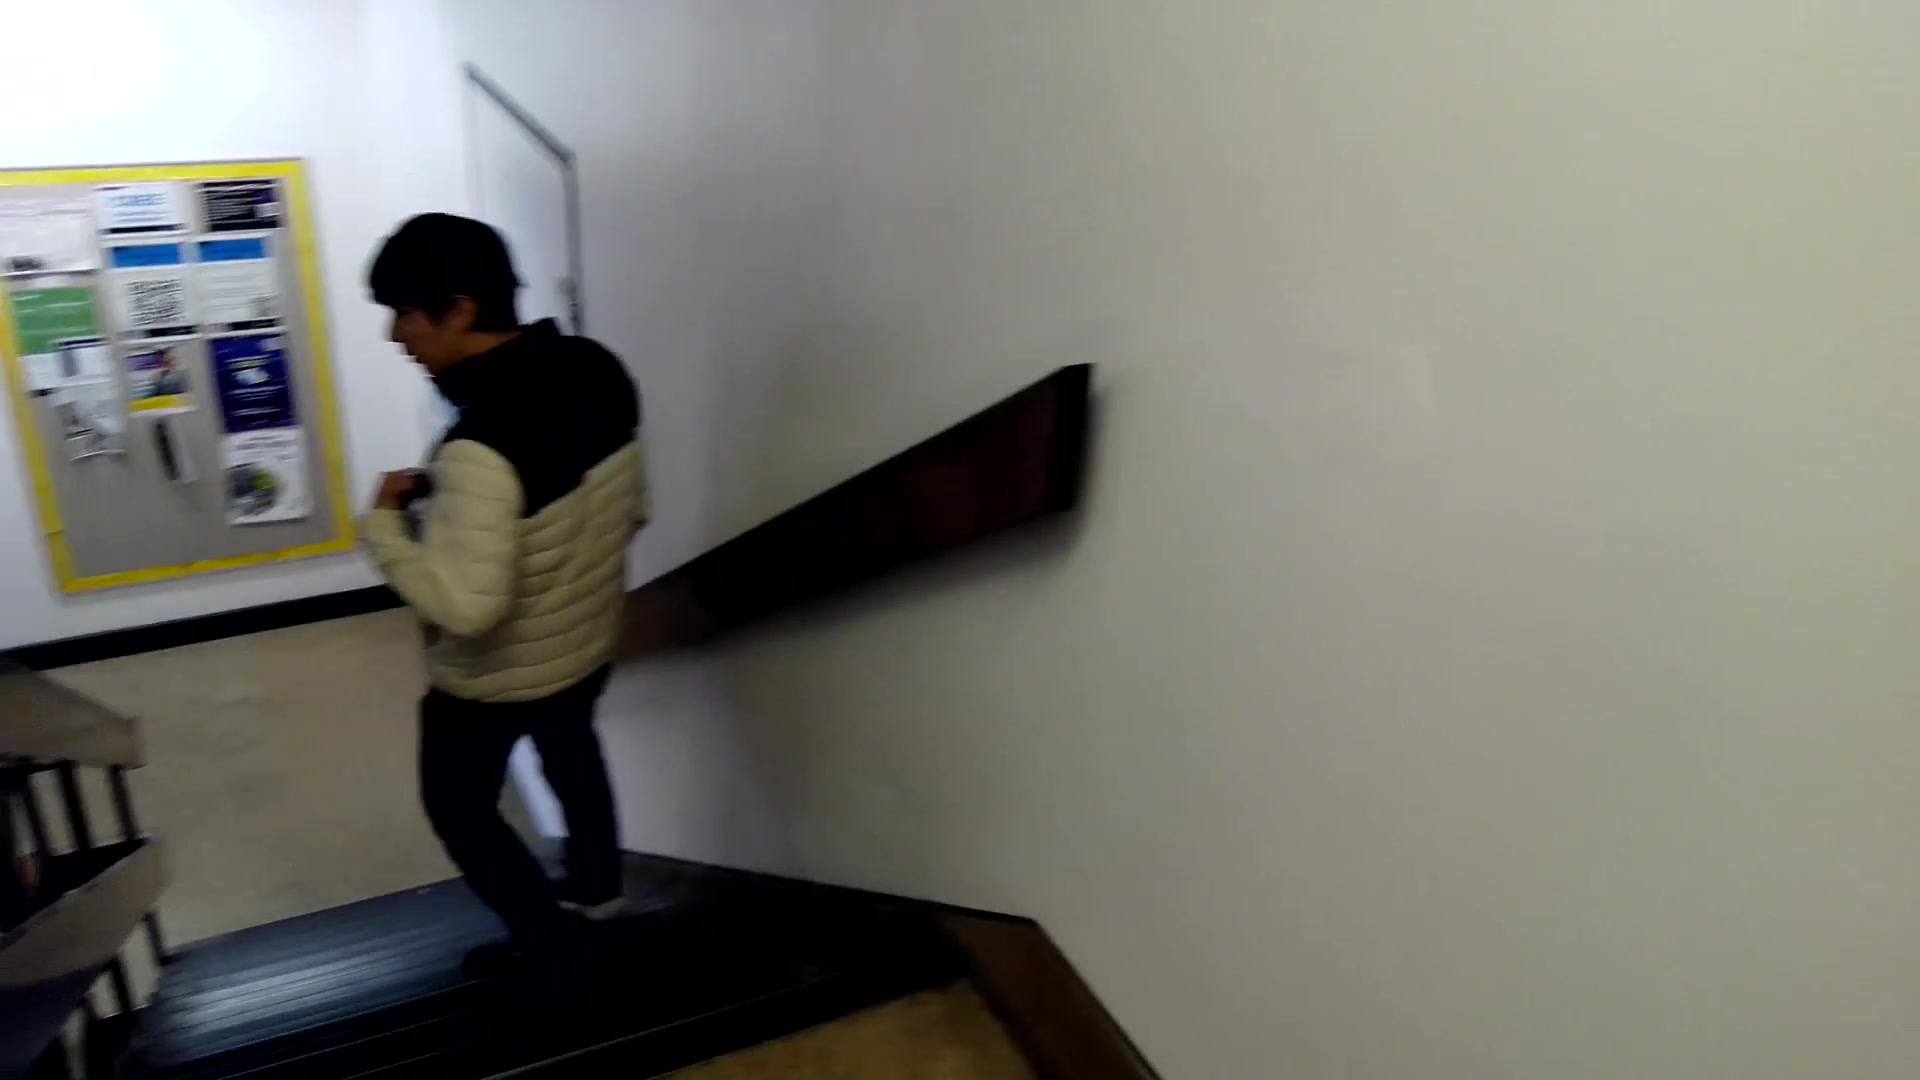Person: (350, 202, 670, 945)
